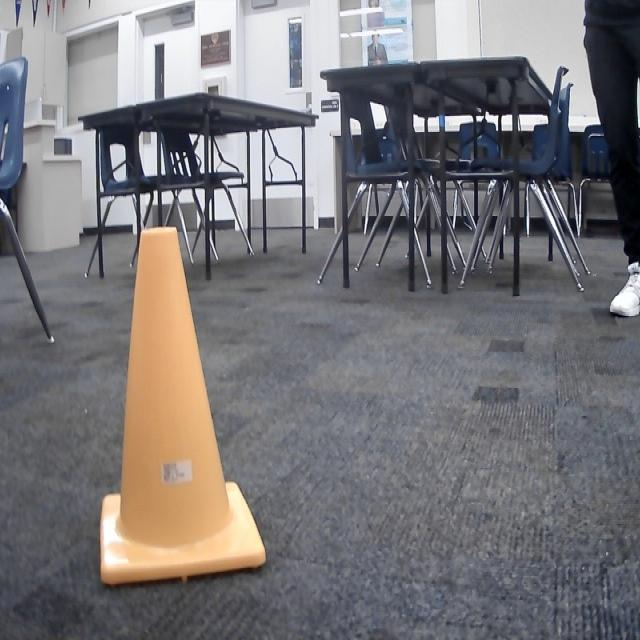cone: (102, 226, 265, 584)
